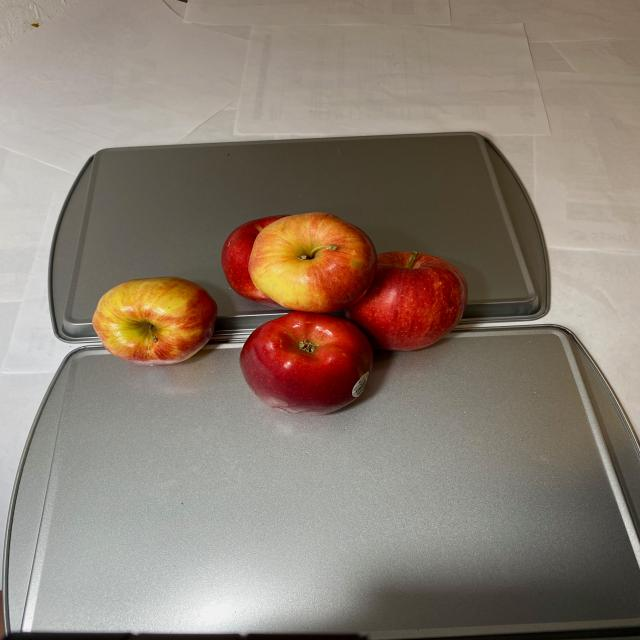apple: (95, 212, 473, 414)
